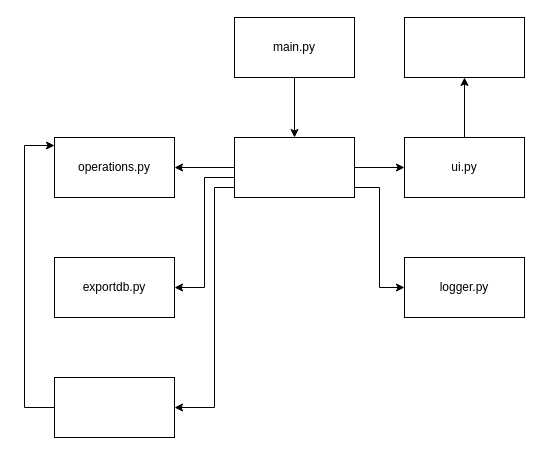
The diagram is 542 pixels wide and 455 high, and some of its shapes have lost their labels. The shapes that lost their labels are listed below. From the top down, each one's centre as x and y in pixels, then its label:
point 464,47: check.py
point 294,167: controller.py
point 114,407: import.db
